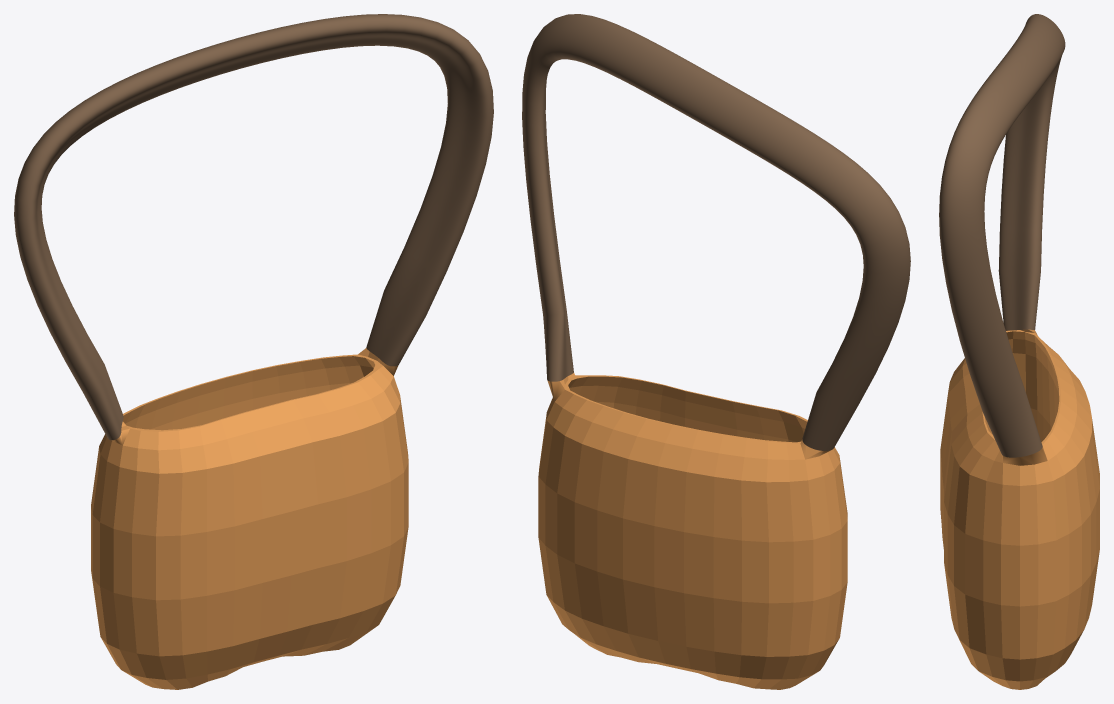
Rendered from bag.glb.
3 renders of one model, left to right at view 1: azimuth 30°, elevation 25°; view 2: azimuth 150°, elevation 25°; view 3: azimuth 270°, elevation 25°, orthographic. The views are drawn at different scales.
Parts seen in each view (by area): view 1: NurbsPath, NurbsPath.001; view 2: NurbsPath, NurbsPath.001; view 3: NurbsPath, NurbsPath.001.
Part boxes in pixels (bbox=[...]): NurbsPath: bbox=[91, 348, 408, 689]; NurbsPath.001: bbox=[14, 14, 493, 440]; NurbsPath: bbox=[538, 373, 847, 689]; NurbsPath.001: bbox=[522, 14, 910, 450]; NurbsPath: bbox=[940, 329, 1099, 689]; NurbsPath.001: bbox=[939, 14, 1065, 457].
Bounding box in the file's own units: 3 × 4.14 × 1.01.
